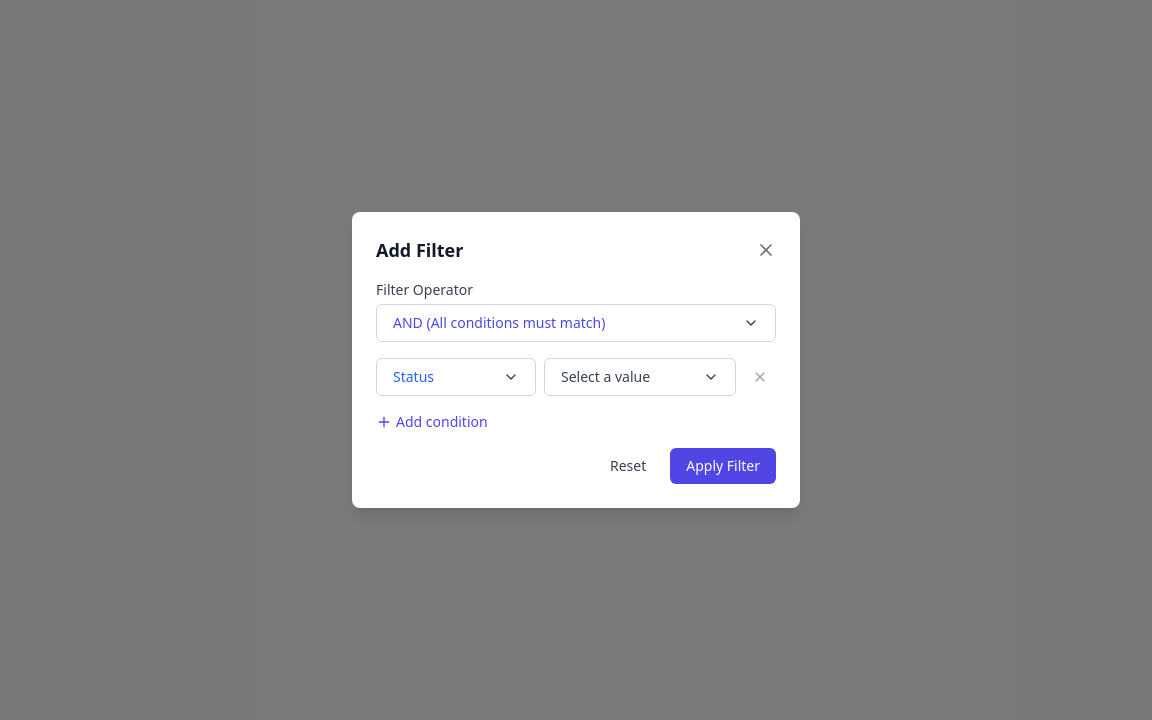
Test: ServiceFilterDialog › should update operator when changed
// Change to OR
Click the button "AND (All conditions must match)" at [576, 323], box [376, 304, 776, 342]
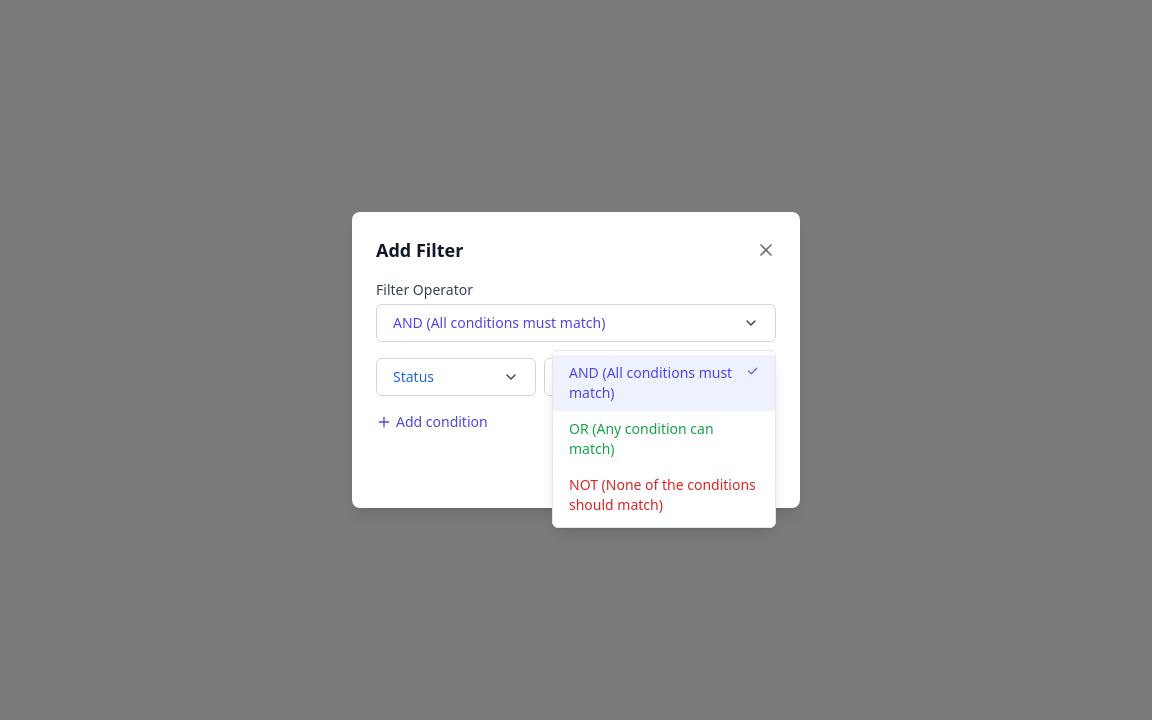
Click the menu item with test id "dropdown-option-OR" at [664, 439], box [553, 411, 775, 467]
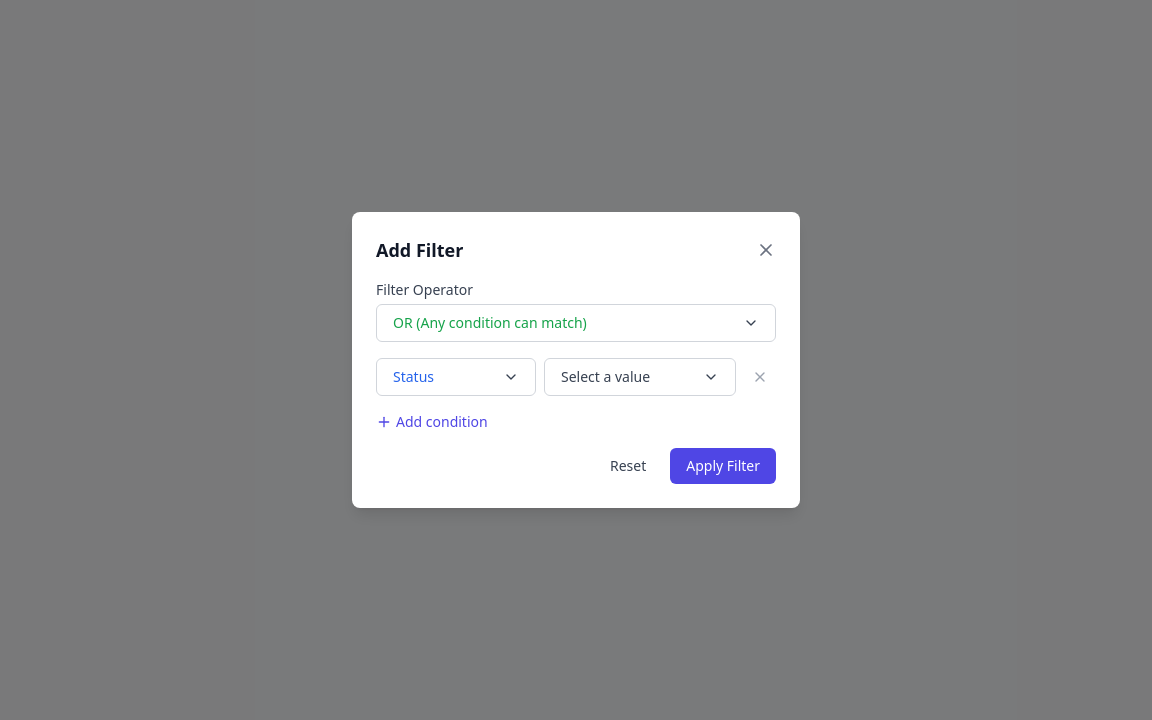
expect the button "OR (Any condition can match)" is shown: met
// Change to NOT
Click the button "OR (Any condition can match)" at [576, 323], box [376, 304, 776, 342]
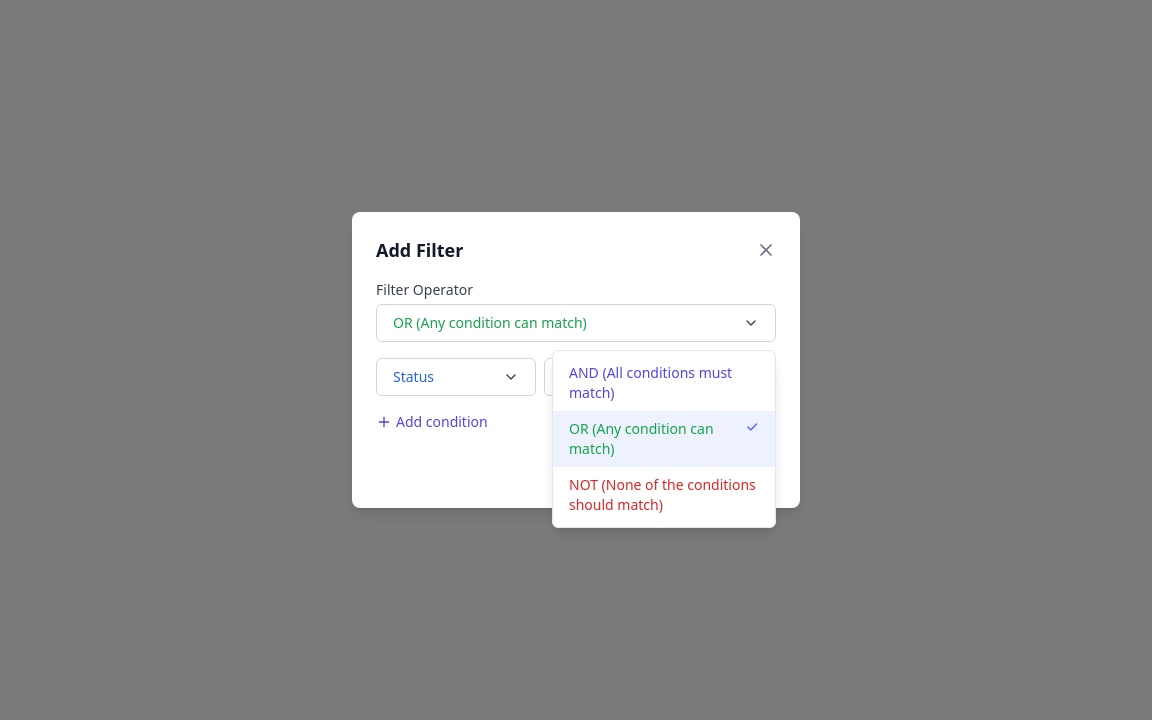
Click the menu item with test id "dropdown-option-NOT" at [664, 495], box [553, 467, 775, 523]
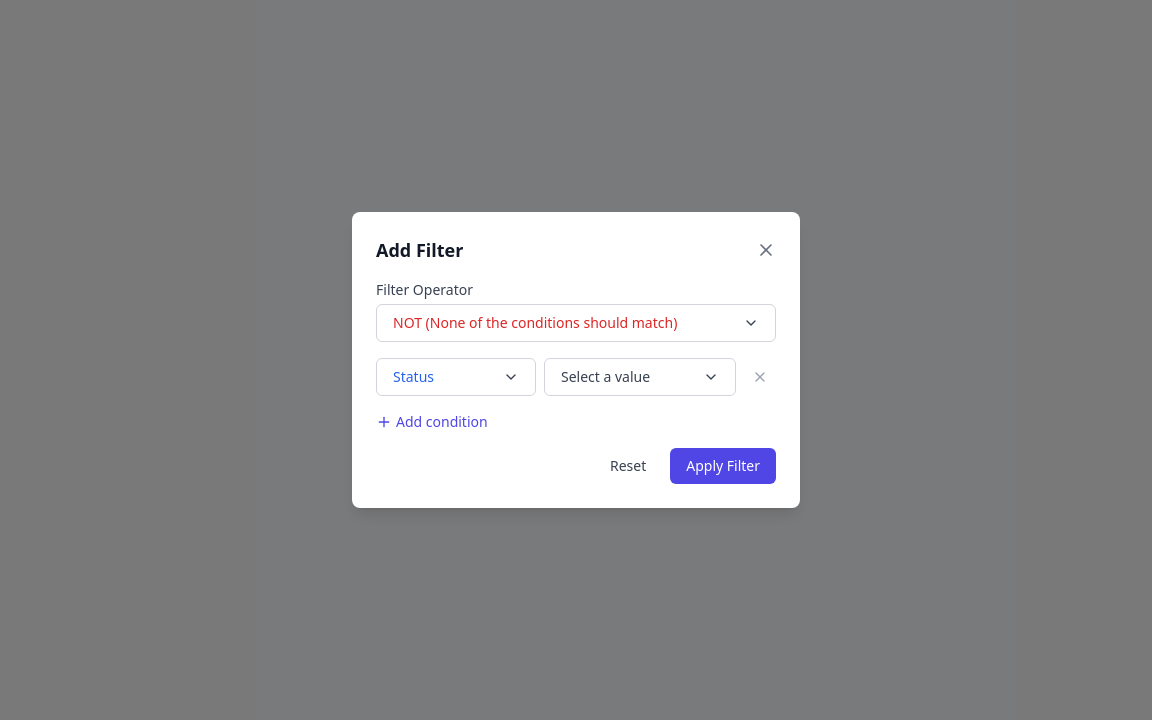
expect the button "NOT (None of the conditions should match)" is shown: met, box [376, 304, 776, 342]
